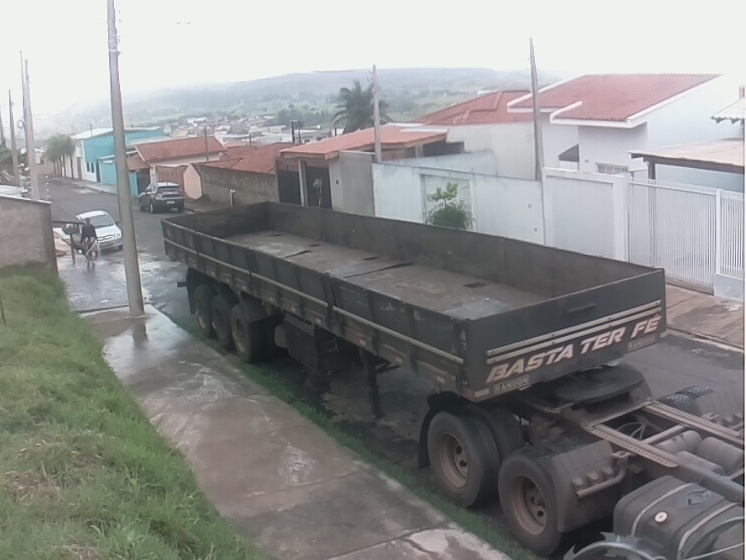person: (77, 216, 102, 269)
